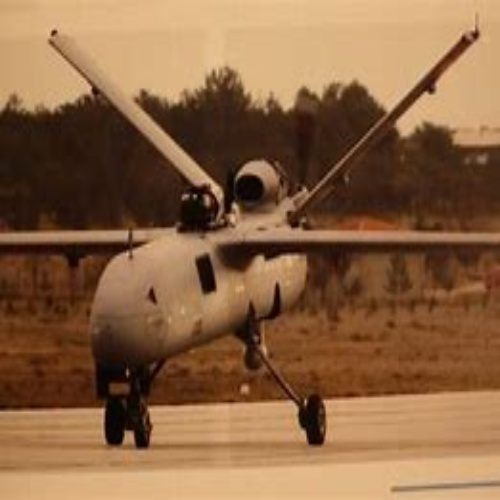uav443: (7, 28, 495, 453)
